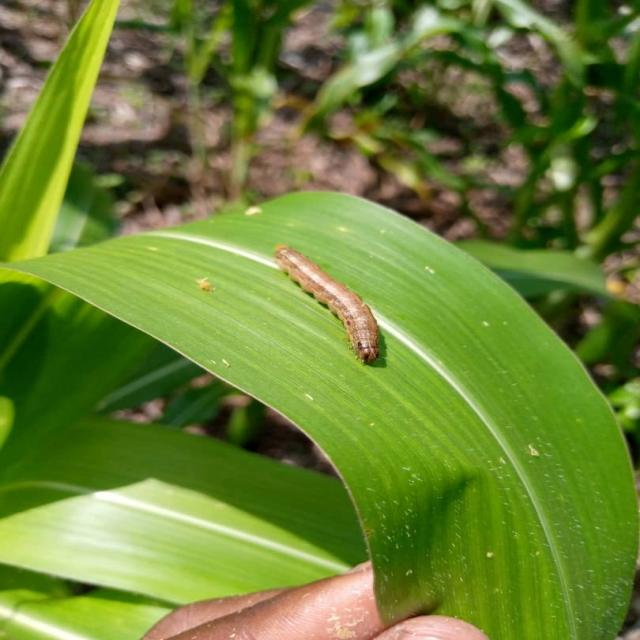yellow-stem-borer-larva: (253, 221, 398, 379)
